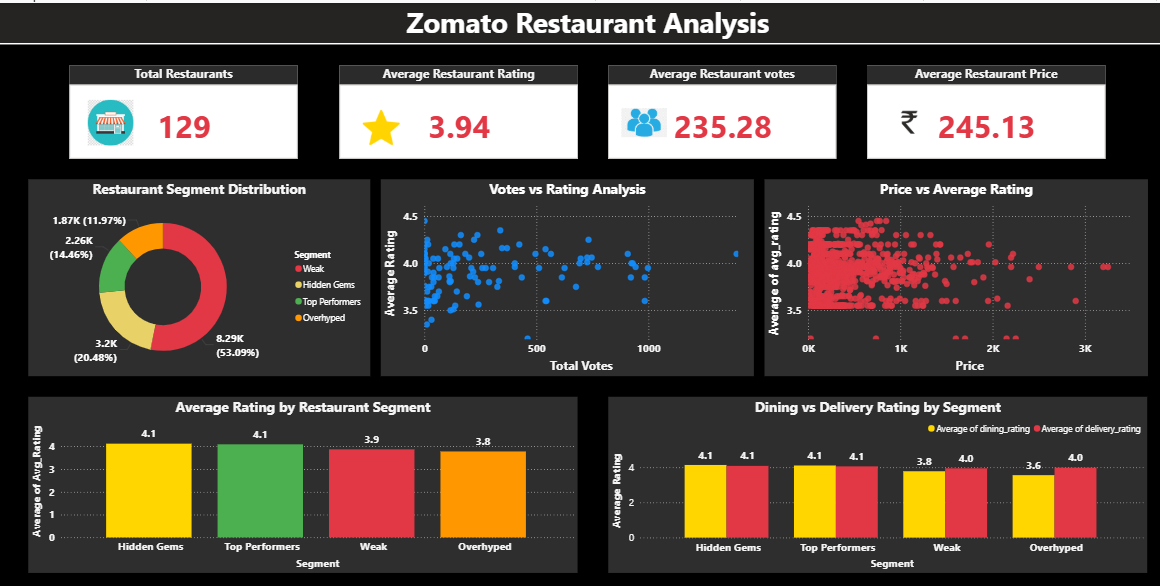

The dashboard page shown, as its layout file describes it:
{"tool":"powerbi","page":{"name":"Page 1","canvas":[1800,900],"ordinal":0},"visuals":[{"type":"cardVisual","title":"Total Restaurants","fields":{"Data":["Count(zomato_hyderabad_cleaned.restaurant_name)"]},"box":[144,96,352,144],"z":0},{"type":"cardVisual","title":"Average Restaurant Rating","fields":{"Data":["Avg(zomato_hyderabad_cleaned.avg_rating)"]},"box":[538.7,96,368,144],"z":1000},{"type":"cardVisual","title":"Average Restaurant votes","fields":{"Data":["Avg(zomato_hyderabad_cleaned.total_votes)"]},"box":[949.3,96,352,144],"z":2000},{"type":"cardVisual","title":"Average Restaurant Price","fields":{"Data":["Avg(zomato_hyderabad_cleaned.price)"]},"box":[1344,96,368,144],"z":3000},{"type":"donutChart","title":"Restaurant Segment Distribution","fields":{"Category":["zomato_hyderabad_cleaned.Segment_Display"],"Y":["CountNonNull(zomato_hyderabad_cleaned.Segment_Display)"]},"box":[16,272,560,320],"z":4000},{"type":"clusteredColumnChart","title":"Average Rating by Restaurant Segment","fields":{"Category":["zomato_hyderabad_cleaned.Segment_Display"],"Y":["Avg(zomato_hyderabad_cleaned.avg_rating)"]},"box":[16,608,880,272],"z":5000},{"type":"scatterChart","title":"Votes vs Rating Analysis","fields":{"X":["zomato_hyderabad_cleaned.total_votes"],"Y":["zomato_hyderabad_cleaned.avg_rating"]},"box":[592,272,576,320],"z":6000},{"type":"scatterChart","title":"Price vs Average Rating","fields":{"X":["zomato_hyderabad_cleaned.price"],"Y":["Avg(zomato_hyderabad_cleaned.avg_rating)"]},"box":[1184,272,592,320],"z":7000},{"type":"clusteredColumnChart","title":"Dining vs Delivery Rating by Segment","fields":{"Category":["zomato_hyderabad_cleaned.Segment_Display"],"Y":["Avg(zomato_hyderabad_cleaned.dining_rating)","Avg(zomato_hyderabad_cleaned.delivery_rating)"]},"box":[912,608,864,272],"z":8000},{"type":"textbox","title":"Zomato Restaurant Analysis","box":[0,0,1824,64],"z":9000},{"type":"image","box":[176,160,96,64],"z":10000},{"type":"image","box":[576,160,96,64],"z":11000},{"type":"image","box":[960,160,90,64],"z":12000},{"type":"image","box":[1360,160,96,64],"z":13000}]}

Visuals, with their boxes in screenshot pixels (x1, y1, x2, y2), scaled from the page's 1800x900 canvas onto the 1160x586 screenshot:
"Total Restaurants" cardVisual: [left=93, top=63, right=320, bottom=156]
"Average Restaurant Rating" cardVisual: [left=347, top=63, right=584, bottom=156]
"Average Restaurant votes" cardVisual: [left=612, top=63, right=839, bottom=156]
"Average Restaurant Price" cardVisual: [left=866, top=63, right=1103, bottom=156]
"Restaurant Segment Distribution" donutChart: [left=10, top=177, right=371, bottom=385]
"Average Rating by Restaurant Segment" clusteredColumnChart: [left=10, top=396, right=577, bottom=573]
"Votes vs Rating Analysis" scatterChart: [left=382, top=177, right=753, bottom=385]
"Price vs Average Rating" scatterChart: [left=763, top=177, right=1145, bottom=385]
"Dining vs Delivery Rating by Segment" clusteredColumnChart: [left=588, top=396, right=1145, bottom=573]
"Zomato Restaurant Analysis" textbox: [left=0, top=0, right=1159, bottom=42]
image: [left=113, top=104, right=175, bottom=146]
image: [left=371, top=104, right=433, bottom=146]
image: [left=619, top=104, right=677, bottom=146]
image: [left=876, top=104, right=938, bottom=146]
